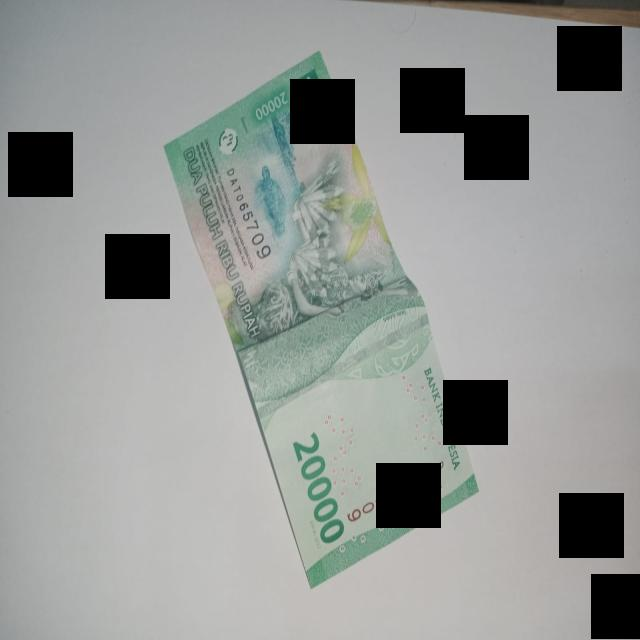dua puluh ribu rupiah: (165, 52, 478, 587)
